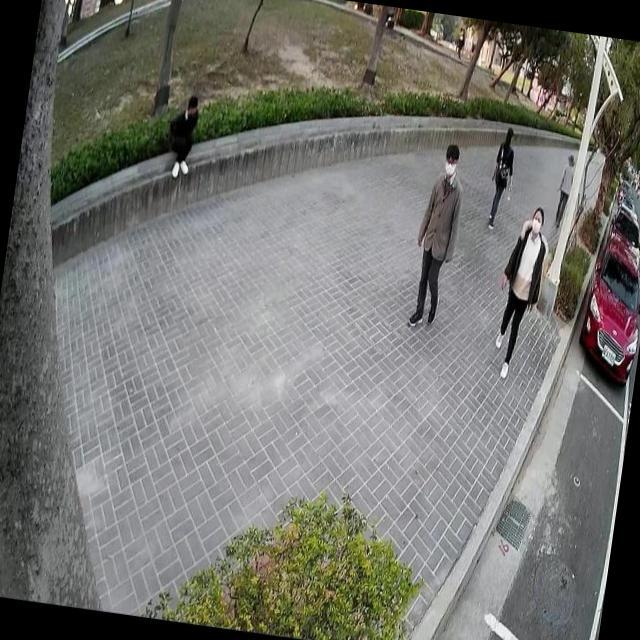person: (402, 134, 472, 337), (484, 195, 558, 386), (479, 119, 522, 235), (160, 87, 202, 181), (552, 144, 582, 232), (452, 24, 468, 60)
